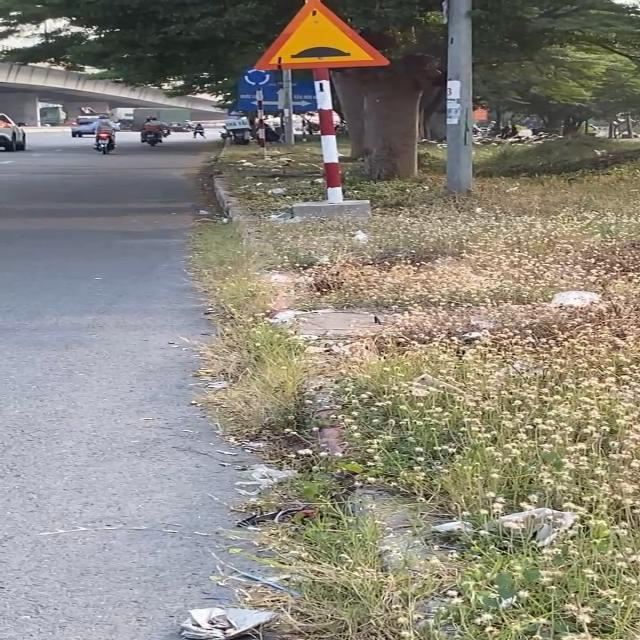221-duong-go-ghe: (253, 0, 390, 68)
303-noi-giao-nhau-chay-theo-vong-xuyen: (242, 66, 272, 88)
